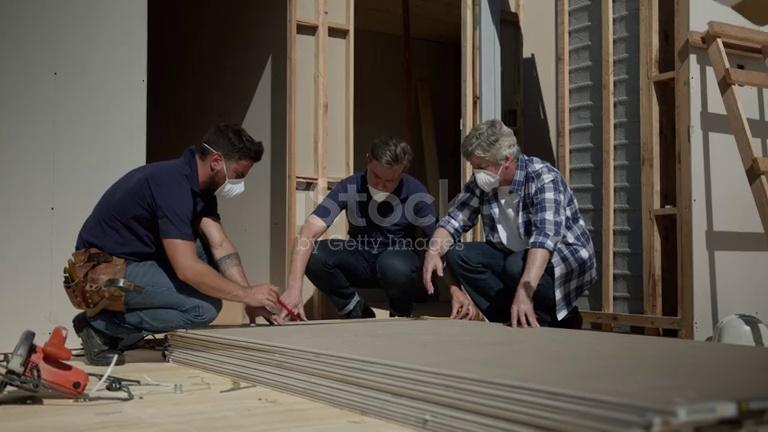helmet: (715, 313, 768, 349)
mask: (472, 162, 505, 194), (218, 178, 246, 198)
person: (65, 124, 291, 364), (276, 136, 476, 325), (422, 118, 596, 331)
